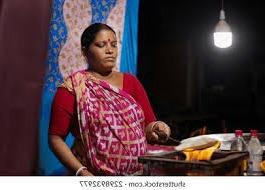Human: (49, 21, 173, 189)
